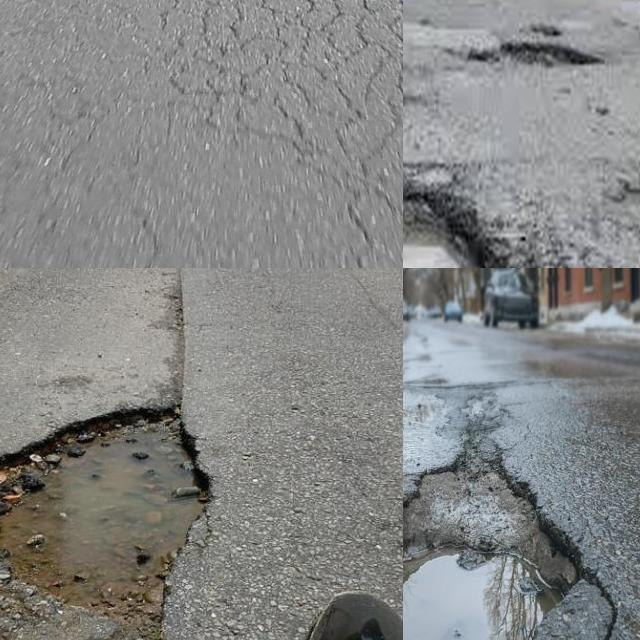Lubang: (0, 405, 216, 619), (403, 446, 618, 640), (403, 188, 506, 268), (476, 44, 599, 65)
Retak Buaya: (175, 0, 403, 214)
